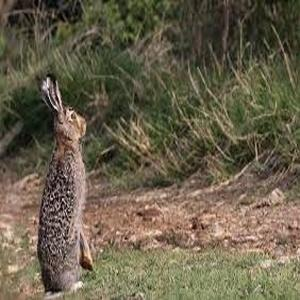rabbit: (37, 73, 92, 296)
